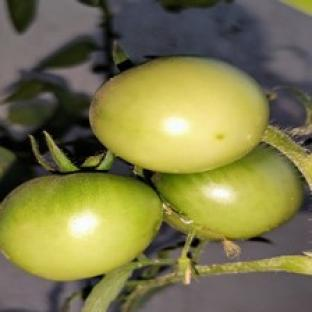Tomato: (90, 56, 268, 172), (0, 173, 162, 279), (154, 145, 303, 239), (0, 147, 30, 200)
